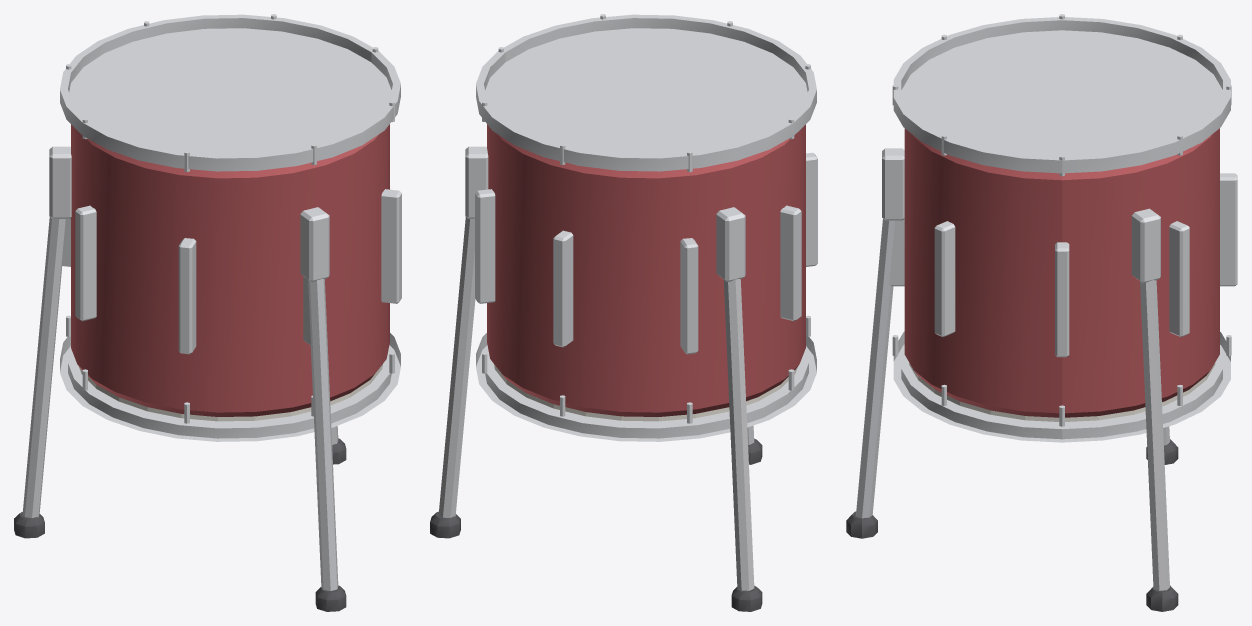
File: floor-tom.glb
3 renders of one model, left to right at view 1: azimuth 30°, elevation 25°; view 2: azimuth 150°, elevation 25°; view 3: azimuth 270°, elevation 25°, orthographic.
Visible parts, largest first — view 1: drum-floor-tom; view 2: drum-floor-tom; view 3: drum-floor-tom.
Boxes of the visible parts, <box> form: drum-floor-tom: <box>14,14,401,611</box>; drum-floor-tom: <box>430,14,817,611</box>; drum-floor-tom: <box>846,14,1237,611</box>.
Bounding box in the file's own units: 0.4765 × 0.62 × 0.493.
